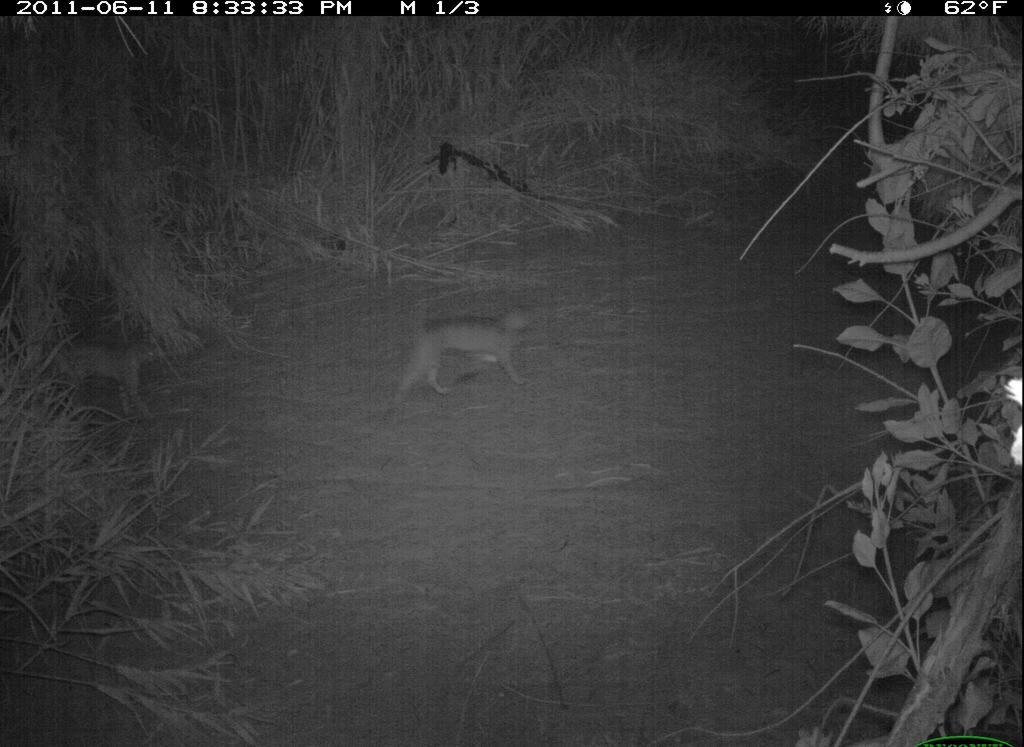bobcat: (387, 290, 534, 409)
